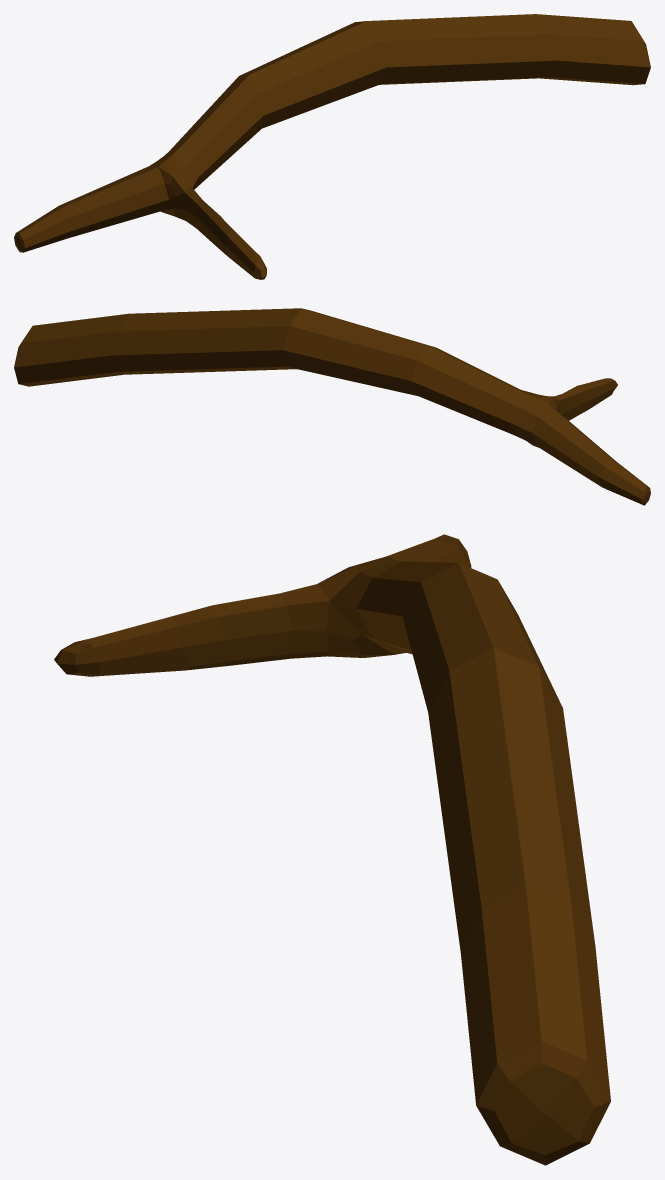
Rendered from Branch.obj.
The picture shows the model from 3 angles, top to bottom: view 1: azimuth 30°, elevation 25°; view 2: azimuth 150°, elevation 25°; view 3: azimuth 270°, elevation 25°; orthographic projection. The views are drawn at different scales.
Parts seen in each view (by area): view 1: Cube; view 2: Cube; view 3: Cube.
Boxes of the visible parts, box(x1,y1,x2,y2) form: Cube: box(14, 14, 650, 279); Cube: box(14, 308, 650, 505); Cube: box(54, 534, 610, 1165).
Bounding box in the file's own units: 5.43 × 1.15 × 2.19.
